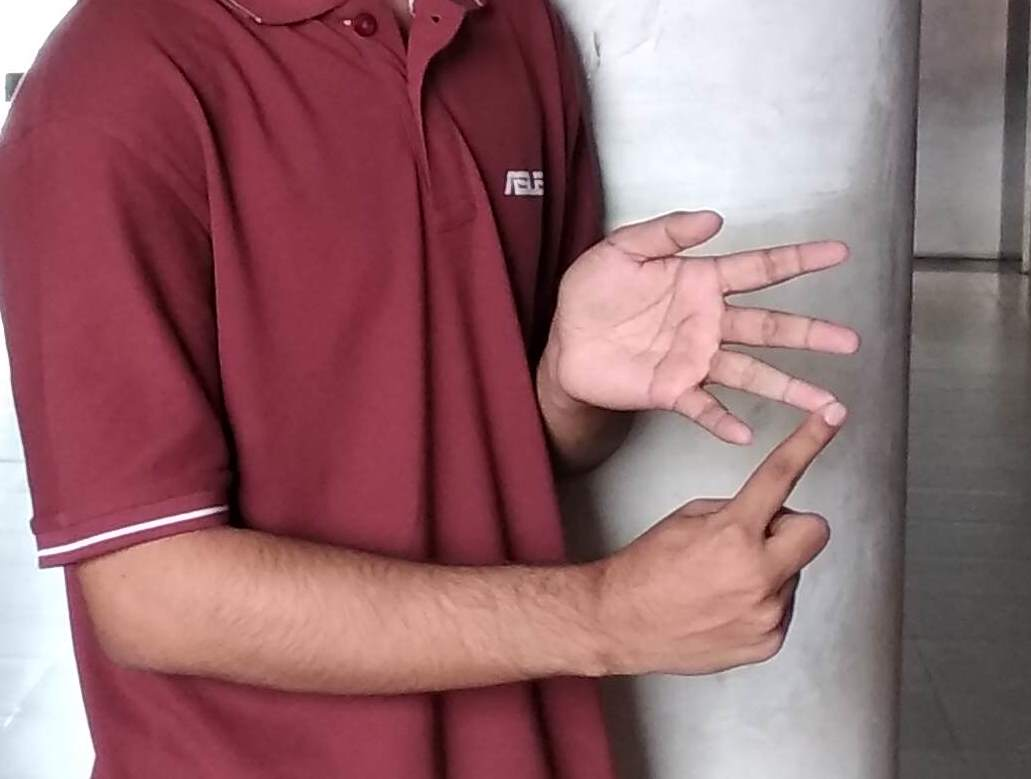e: (616, 215, 874, 556)
